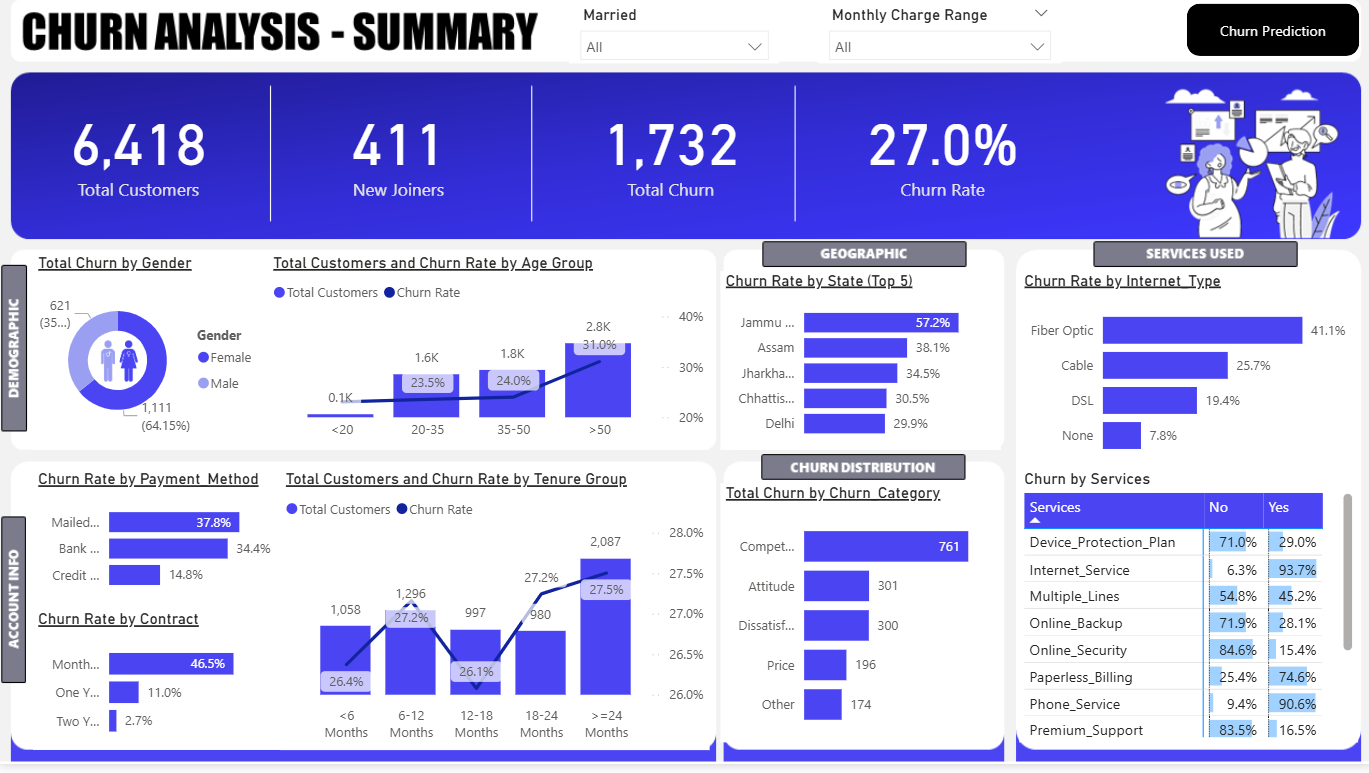

Layout of this report page (visuals, bound fields, positions):
{"tool":"powerbi","page":{"name":"Summary","canvas":[1280,720],"ordinal":0},"visuals":[{"type":"card","fields":{"Values":["Table_measures.Total Customers"]},"box":[20.9,97.7,219.8,97.7],"z":0},{"type":"card","fields":{"Values":["Table_measures.New Joiners"]},"box":[262.8,97.7,219.8,97.7],"z":1000},{"type":"card","fields":{"Values":["Table_measures.Total Churn"]},"box":[516.3,97.7,219.8,97.7],"z":2000},{"type":"card","fields":{"Values":["Table_measures.Churn Rate"]},"box":[768.6,97.7,220.9,97.7],"z":3000},{"type":"donutChart","fields":{"Category":["prod_Churn.Gender"],"Y":["Table_measures.Total Churn"]},"box":[32.6,244.2,218.6,182.6],"z":4000},{"type":"lineStackedColumnComboChart","fields":{"Category":["mapping_AgeGrp.Age Group "],"Y":["Table_measures.Total Customers"],"Y2":["Table_measures.Churn Rate"]},"box":[251.2,244.2,410.5,182.6],"z":5000},{"type":"clusteredBarChart","fields":{"Category":["prod_Churn.Payment_Method"],"Y":["Table_measures.Churn Rate"]},"box":[32.6,445.4,230.2,123.3],"z":6000},{"type":"clusteredBarChart","fields":{"Category":["prod_Churn.Contract"],"Y":["Table_measures.Churn Rate"]},"box":[32.6,575.6,230.2,130.2],"z":7000},{"type":"lineStackedColumnComboChart","fields":{"Y":["Table_measures.Total Customers"],"Y2":["Table_measures.Churn Rate"],"Category":["mapping_tenureGrp.Tenure Group"]},"box":[262.8,445.4,398.8,260.5],"z":8000},{"type":"clusteredBarChart","title":"Churn Rate by State (Top 5)","fields":{"Category":["prod_Churn.State"],"Y":["Table_measures.Churn Rate"]},"box":[672.1,260.5,260.5,166.3],"z":9000},{"type":"clusteredBarChart","fields":{"Y":["Table_measures.Total Churn"],"Category":["prod_Churn.Churn_Category"]},"box":[672.1,458.1,260.5,240.7],"z":10000},{"type":"clusteredBarChart","fields":{"Category":["prod_Churn.Internet_Type"],"Y":["Table_measures.Churn Rate"]},"box":[950,260.5,315.1,184.9],"z":11000},{"type":"pivotTable","title":"Churn by Services","fields":{"Rows":["prod_services.Services"],"Columns":["prod_services.Status"],"Values":["Sum(prod_services.Churn Status)"]},"box":[950,445.4,315.1,253.5],"z":12000},{"type":"slicer","fields":{"Values":["prod_services.Monthly Charge Status"]},"box":[762.8,8.1,226.7,59.3],"z":13000},{"type":"slicer","fields":{"Values":["prod_services.Married"]},"box":[531.4,8.1,195.3,59.3],"z":14000},{"type":"image","box":[41.9,314,141.9,59.3],"z":15000},{"type":"shape","box":[1105.8,11.6,160.5,48.8],"z":15001}]}

Visuals, with their boxes in screenshot pixels (x1, y1, x2, y2), scaled from the page's 1280x720 canvas onto the 1369x773 screenshot:
card - Table_measures.Total Customers: x1=22 y1=105 x2=257 y2=210
card - Table_measures.New Joiners: x1=281 y1=105 x2=516 y2=210
card - Table_measures.Total Churn: x1=552 y1=105 x2=787 y2=210
card - Table_measures.Churn Rate: x1=822 y1=105 x2=1058 y2=210
donutChart - prod_Churn.Gender x Table_measures.Total Churn: x1=35 y1=262 x2=269 y2=458
lineStackedColumnComboChart - mapping_AgeGrp.Age Group  x Table_measures.Total Customers: x1=269 y1=262 x2=708 y2=458
clusteredBarChart - prod_Churn.Payment_Method x Table_measures.Churn Rate: x1=35 y1=478 x2=281 y2=611
clusteredBarChart - prod_Churn.Contract x Table_measures.Churn Rate: x1=35 y1=618 x2=281 y2=758
lineStackedColumnComboChart - Table_measures.Total Customers x Table_measures.Churn Rate: x1=281 y1=478 x2=708 y2=758
"Churn Rate by State (Top 5)" clusteredBarChart: x1=719 y1=280 x2=997 y2=458
clusteredBarChart - Table_measures.Total Churn x prod_Churn.Churn_Category: x1=719 y1=492 x2=997 y2=750
clusteredBarChart - prod_Churn.Internet_Type x Table_measures.Churn Rate: x1=1016 y1=280 x2=1353 y2=478
"Churn by Services" pivotTable: x1=1016 y1=478 x2=1353 y2=750
slicer - prod_services.Monthly Charge Status: x1=816 y1=9 x2=1058 y2=72
slicer - prod_services.Married: x1=568 y1=9 x2=777 y2=72
image: x1=45 y1=337 x2=197 y2=401
shape: x1=1183 y1=12 x2=1354 y2=65
